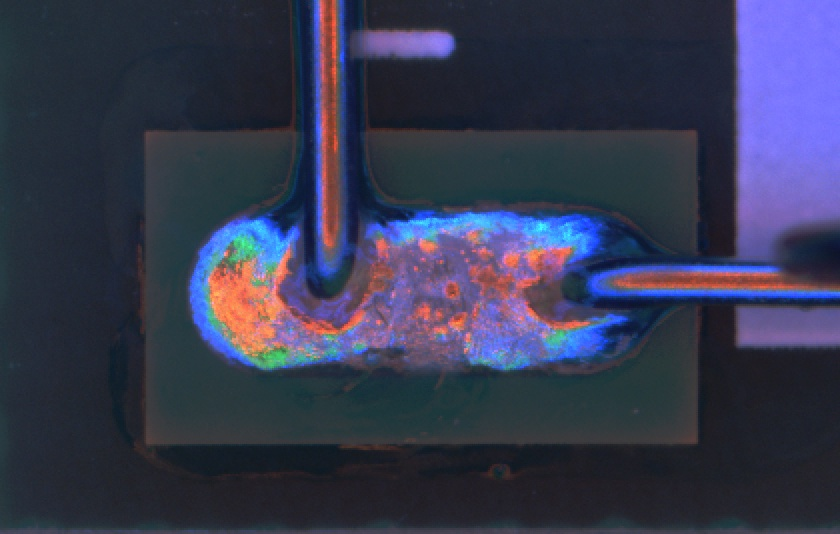spring: (293, 1, 371, 316), (560, 247, 840, 316)
spring_pin: (189, 212, 667, 374)
